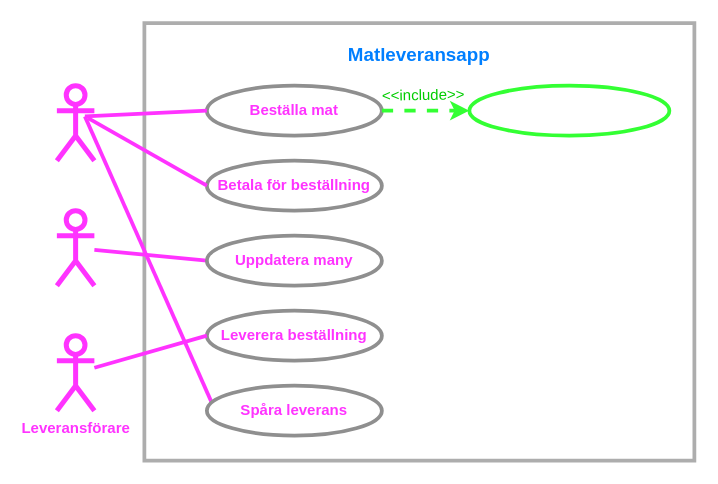
Image size: 718x484. Some labels were removed from this diagram. Here are the shapes that lost their labels. From the top down, the centre of each, then its label:
the point at 75,122: Kund
the point at 569,110: Kontrollera lagerstatus
the point at 75,248: Restaurang
